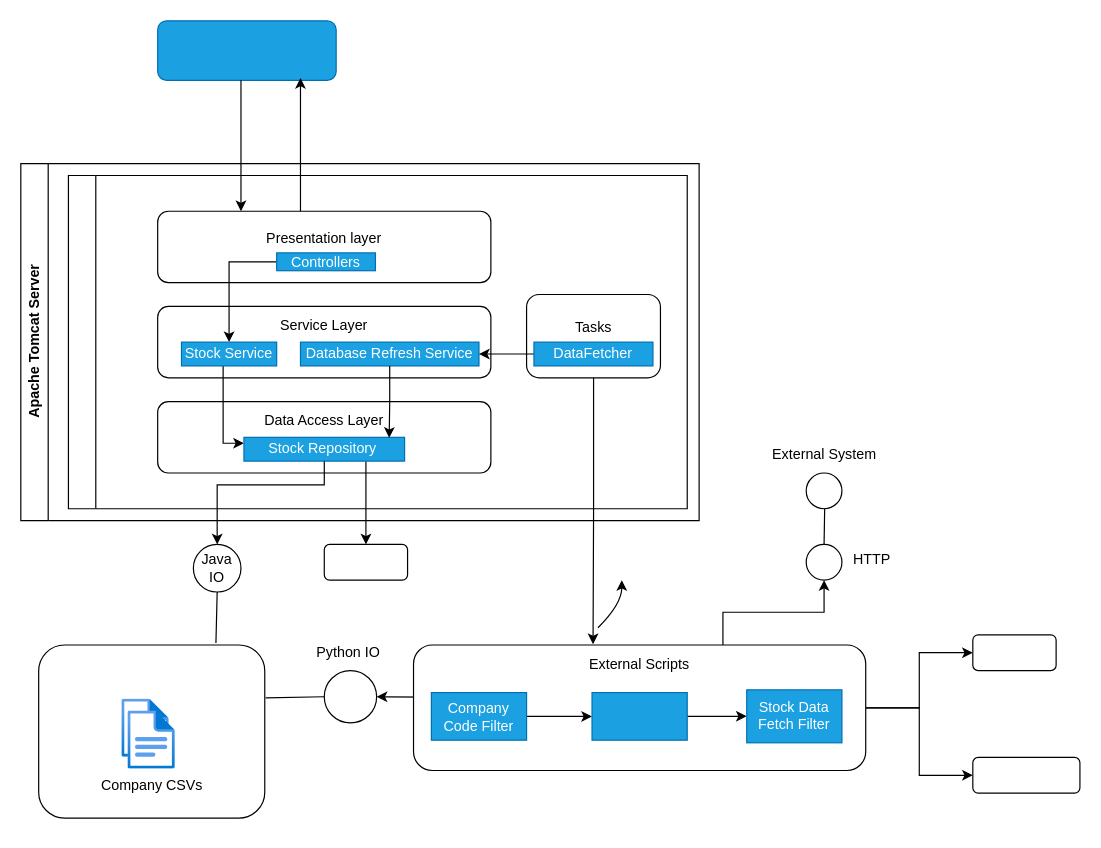
Image size: 1101x848. Some labels were removed from this diagram. The box of each missing label's shape, as (x1, y1, x2, y2) in pixels:
Apache Commons: (323, 543, 408, 580)
BeautifulSoup: (972, 756, 1080, 793)
Data Sources: (37, 644, 265, 818)
Missing Data Filter: (591, 691, 687, 740)
Pandas: (972, 634, 1056, 671)
Spring container: (67, 174, 687, 509)
Web App UI: (156, 20, 336, 80)
